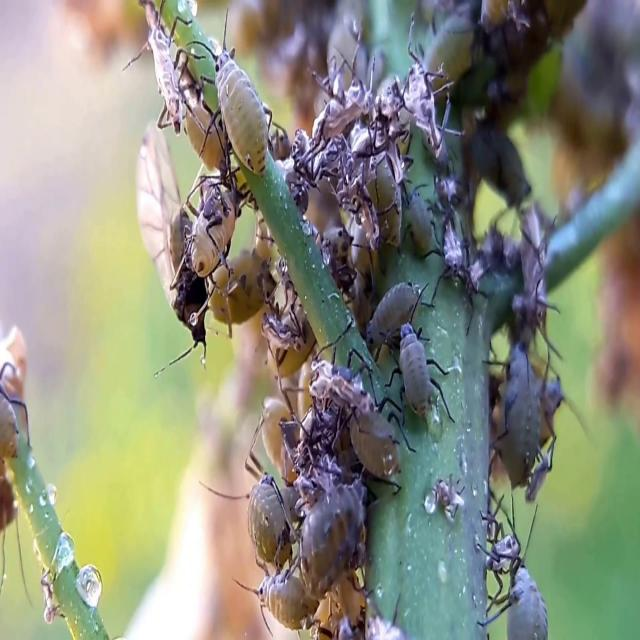aphid: (276, 432, 379, 612), (208, 420, 312, 584), (167, 140, 261, 307), (471, 523, 563, 640), (384, 310, 444, 439)
